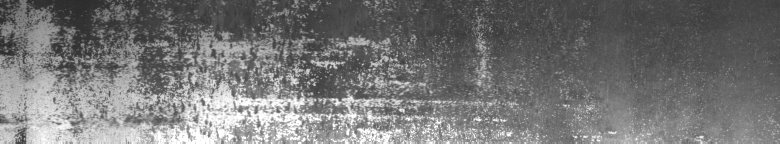kb: (4, 4, 616, 136)
